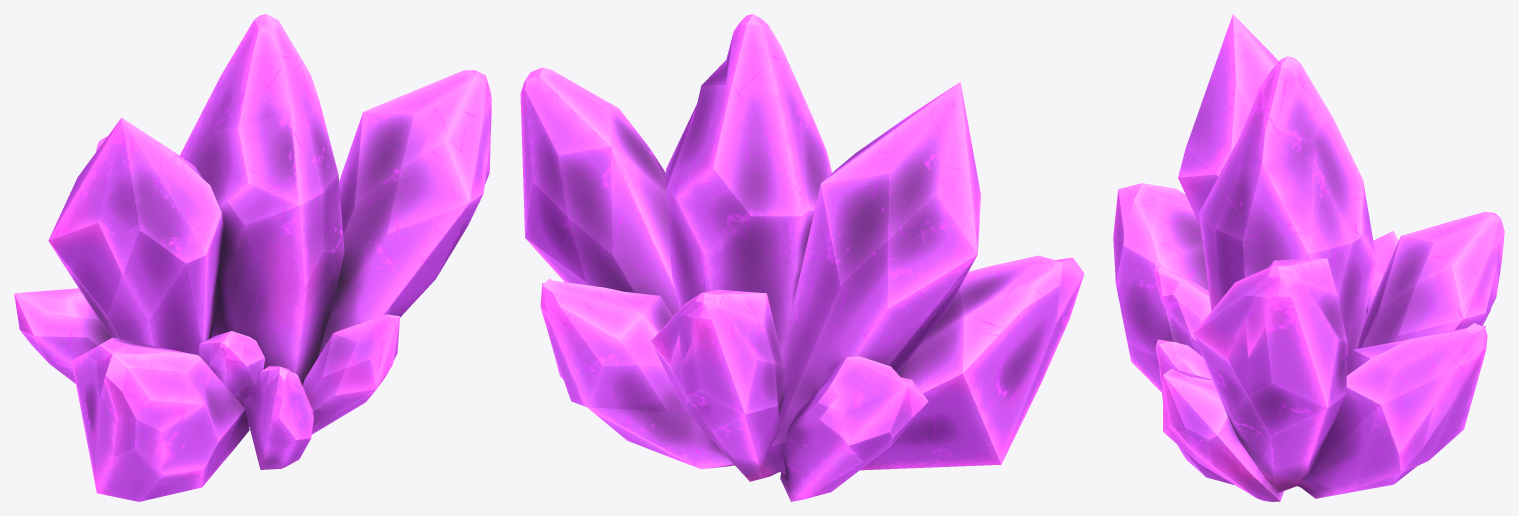
File: lgPurp.gltf
3 views of the same model, side by side, from view 1: azimuth 30°, elevation 25°; view 2: azimuth 150°, elevation 25°; view 3: azimuth 270°, elevation 25° (orthographic). The views are drawn at different scales.
Visible parts, largest first — view 1: Object_10; view 2: Object_10; view 3: Object_10.
Boxes of the visible parts, left/top/right/bottom form: Object_10: left=14, top=14, right=491, bottom=501; Object_10: left=520, top=14, right=1084, bottom=501; Object_10: left=1113, top=14, right=1504, bottom=501.
Bounding box in the file's own units: 2.77 × 2.46 × 2.
Materials: 1 (1 with a texture image).
